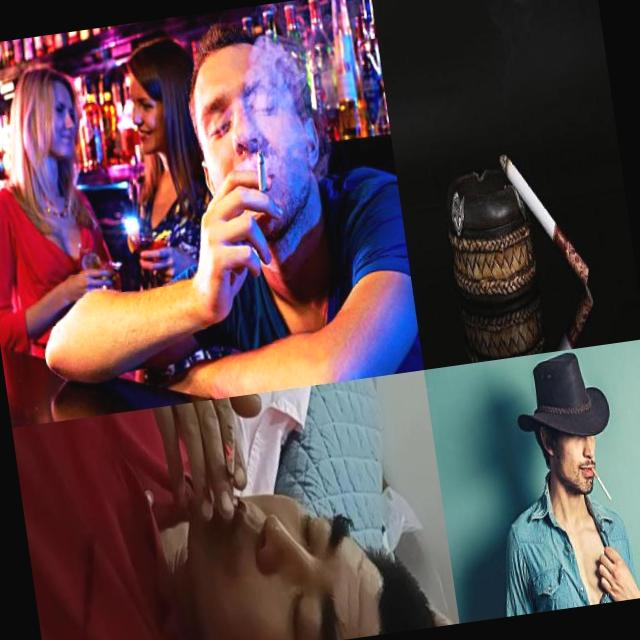cigarette: (496, 137, 592, 296), (216, 421, 247, 514), (252, 147, 270, 202), (590, 464, 612, 504)
